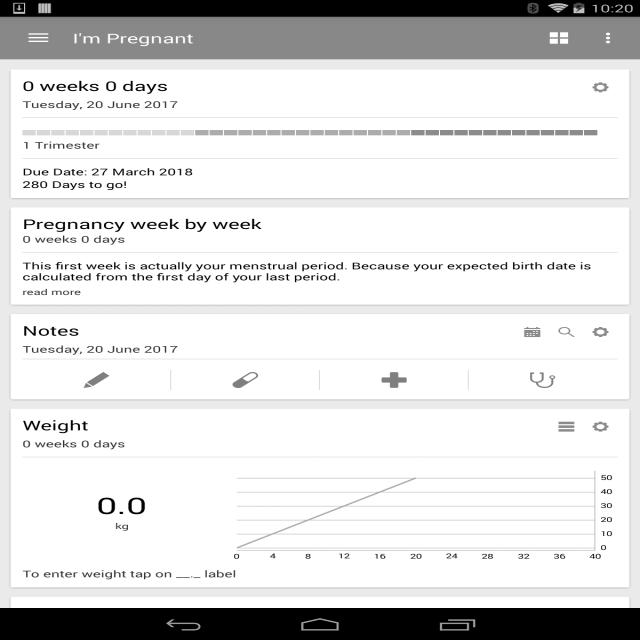ImageButton: (9, 17, 68, 59)
ImageView: (366, 363, 422, 397), (515, 363, 571, 397), (69, 363, 124, 397), (218, 363, 273, 397), (589, 22, 631, 54), (516, 321, 550, 343), (550, 321, 584, 343), (584, 321, 618, 343), (584, 77, 618, 98), (550, 416, 584, 437), (584, 416, 618, 437), (516, 604, 550, 625), (550, 604, 584, 625), (584, 604, 618, 625)
TextView: (22, 259, 618, 283), (22, 76, 584, 95), (22, 215, 618, 232), (22, 416, 550, 434), (22, 604, 516, 622), (22, 322, 516, 339), (22, 98, 618, 111), (22, 165, 618, 178), (22, 178, 618, 191), (22, 437, 618, 450), (22, 567, 618, 580), (22, 139, 618, 151), (22, 233, 618, 245), (22, 286, 618, 298), (22, 343, 618, 355), (22, 490, 221, 520), (22, 520, 221, 532), (73, 29, 194, 47), (529, 22, 589, 54)
